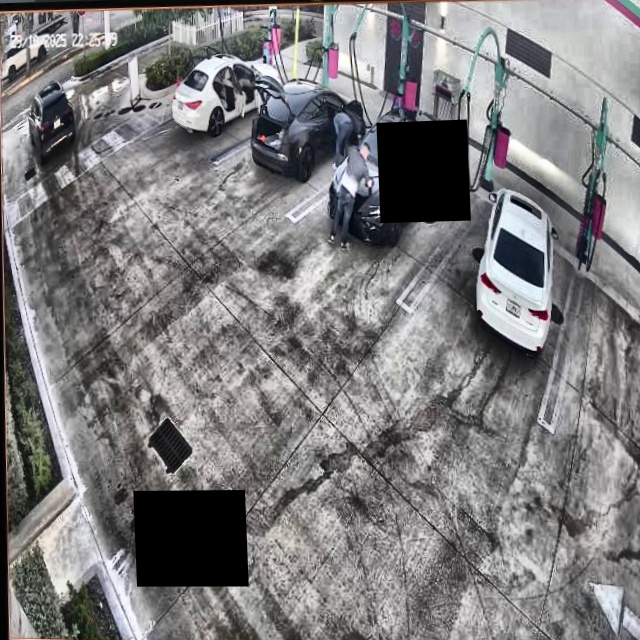Car: (325, 109, 458, 251), (477, 171, 556, 358), (251, 75, 365, 192)
